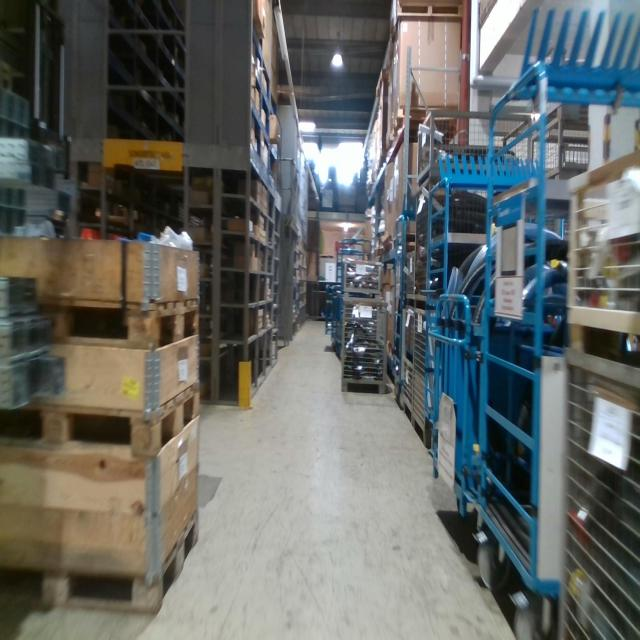pallet: (0, 507, 199, 617), (0, 377, 201, 461), (33, 290, 200, 355)
stillage: (557, 350, 640, 636), (557, 147, 640, 347), (415, 181, 536, 301), (415, 103, 534, 176), (340, 295, 390, 398), (533, 114, 605, 174), (411, 310, 440, 448), (337, 249, 384, 297), (399, 351, 414, 419), (401, 246, 417, 299)
